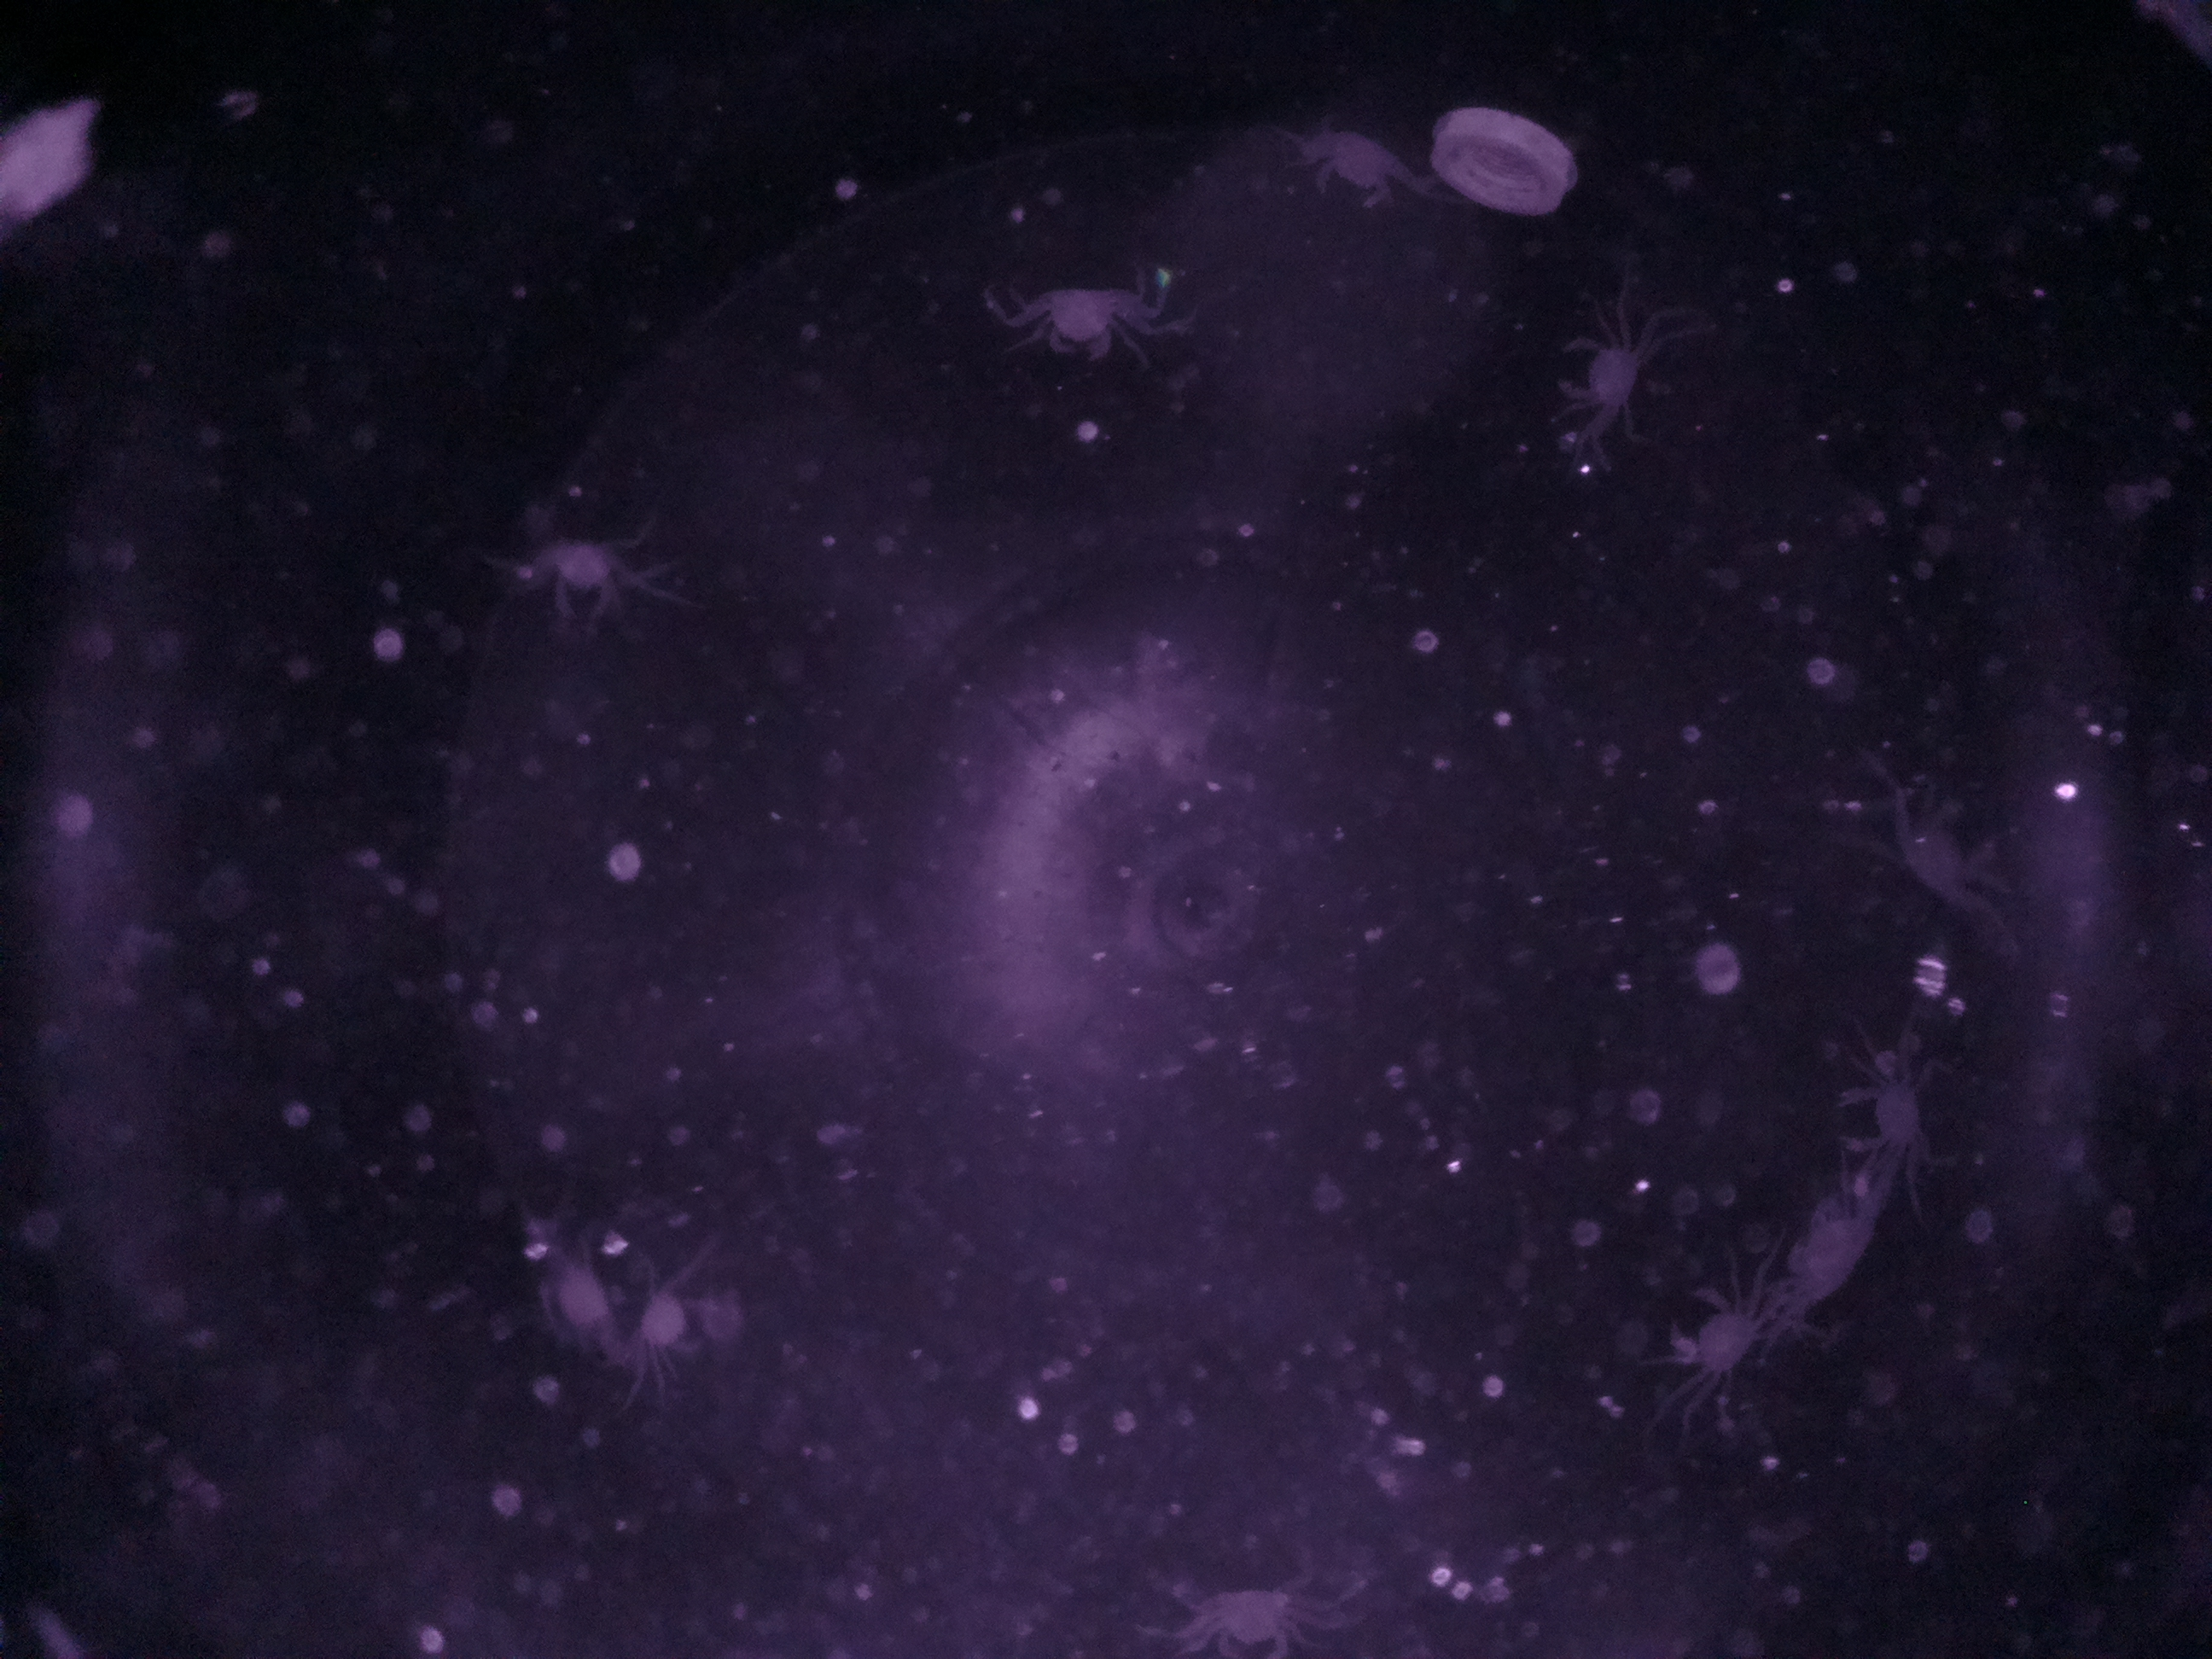Crab: (1874, 788, 2017, 932), (1771, 1188, 1888, 1317), (1301, 98, 1413, 227), (1658, 1274, 1771, 1389), (1550, 315, 1658, 429), (617, 1263, 730, 1370), (545, 523, 643, 641), (1197, 1560, 1308, 1659), (1028, 268, 1132, 373), (1827, 1072, 1944, 1162)
